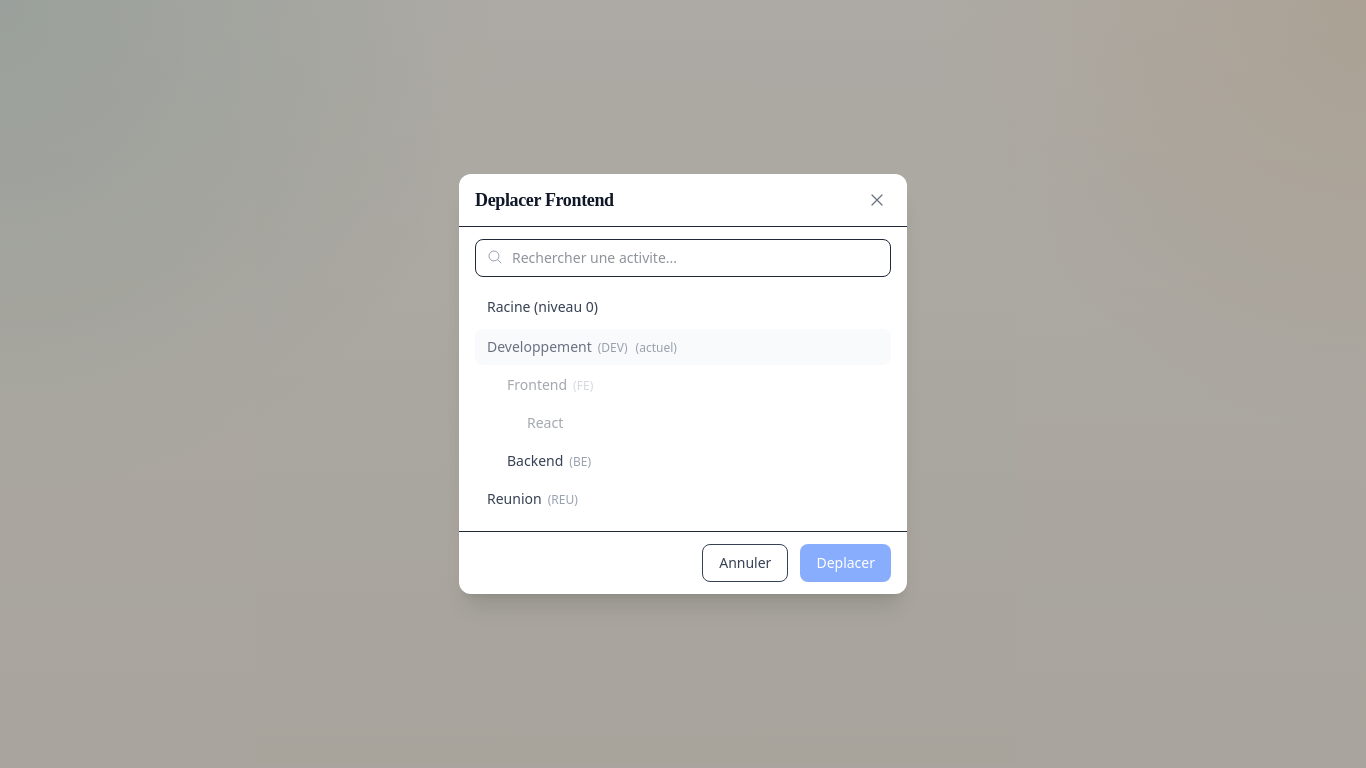
SelectionParentModal › filtre par code
The width and height of the screenshot is (1366, 768).
Type "BE" into the field with placeholder "Rechercher une activite...". click: (683, 258)
box: [475,239,891,277]
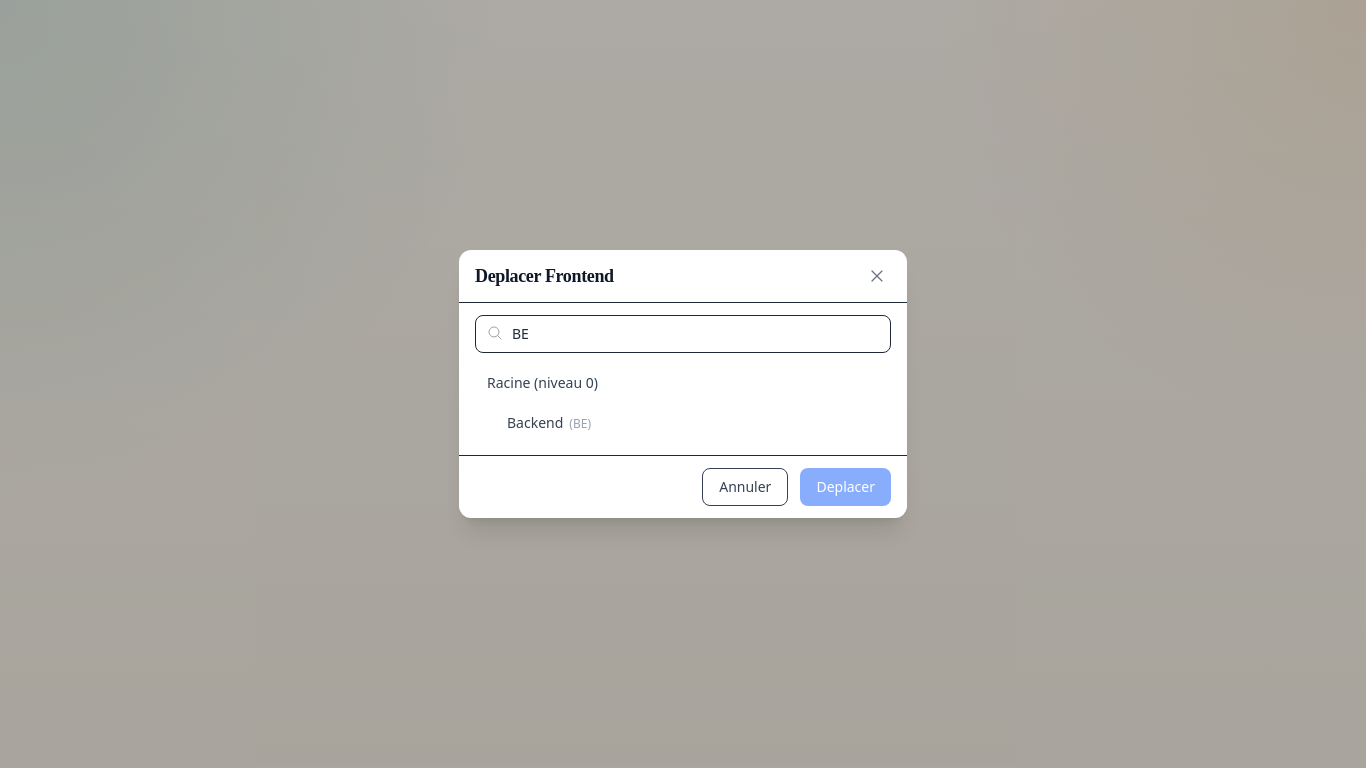
Expected: the text "Backend" is shown, [507,413,563,432]
Expected: the button "Reunion" is gone
